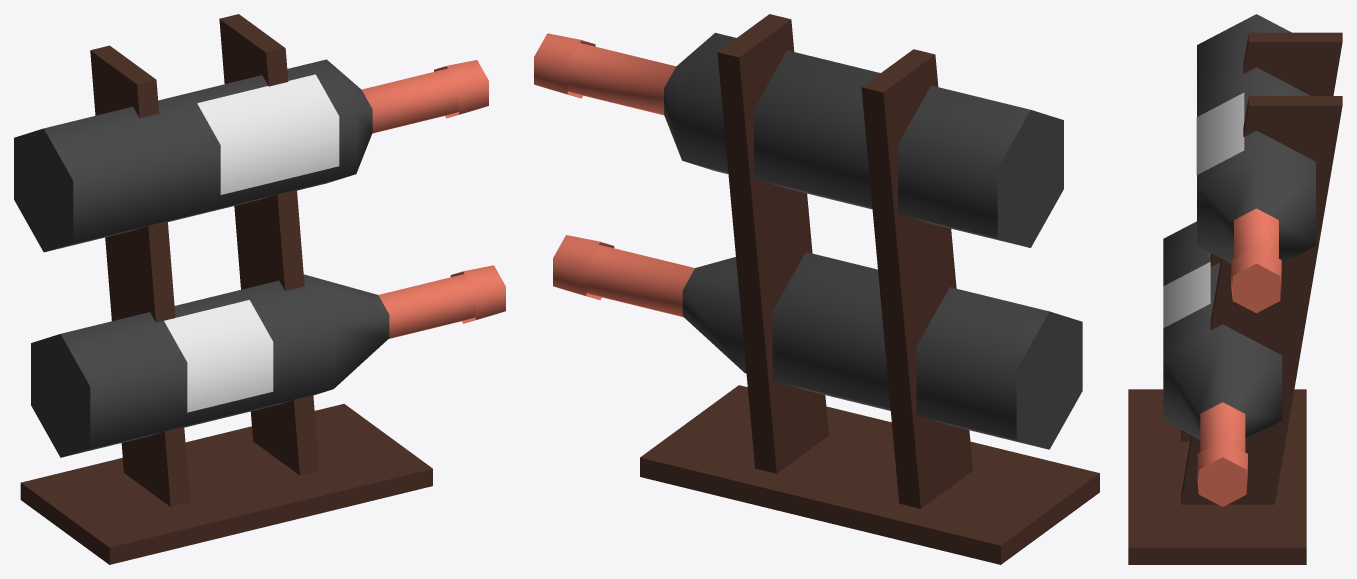
The picture shows the model from 3 angles, left to right: view 1: azimuth 30°, elevation 25°; view 2: azimuth 150°, elevation 25°; view 3: azimuth 270°, elevation 25°; orthographic projection. The views are drawn at different scales.
Parts seen in each view (by area): view 1: prop_030; view 2: prop_030; view 3: prop_030.
Boxes of the visible parts, left/top/right/bottom form: prop_030: left=14, top=14, right=505, bottom=564; prop_030: left=534, top=14, right=1099, bottom=564; prop_030: left=1128, top=14, right=1342, bottom=564.
Size of the model in its own units: 0.3769 by 0.345 by 0.1608.
